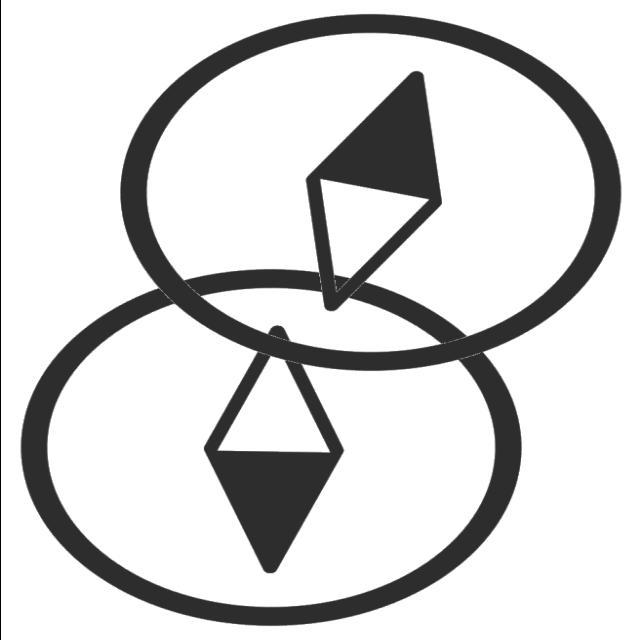compass: (107, 6, 630, 392), (6, 251, 531, 633)
